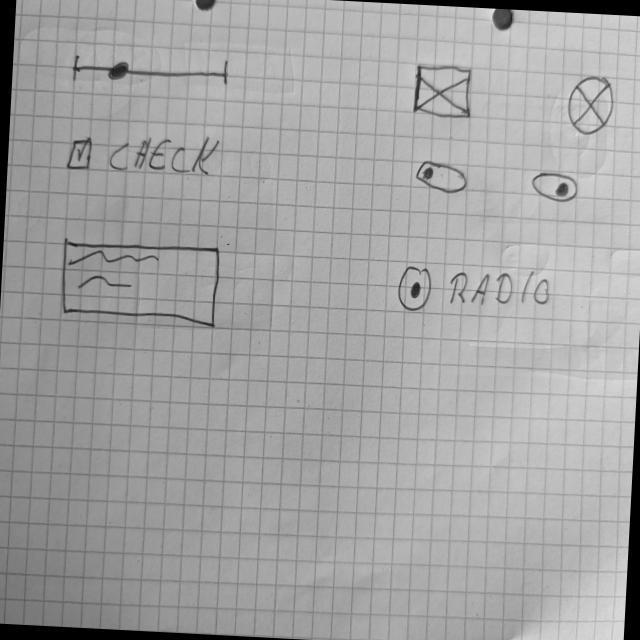checkbox: (63, 128, 225, 183)
image: (411, 62, 477, 122), (566, 74, 618, 140)
radio: (396, 260, 553, 324)
slider: (67, 48, 237, 96)
textarea: (59, 237, 224, 329)
toggle: (414, 159, 471, 197), (532, 171, 581, 205)
